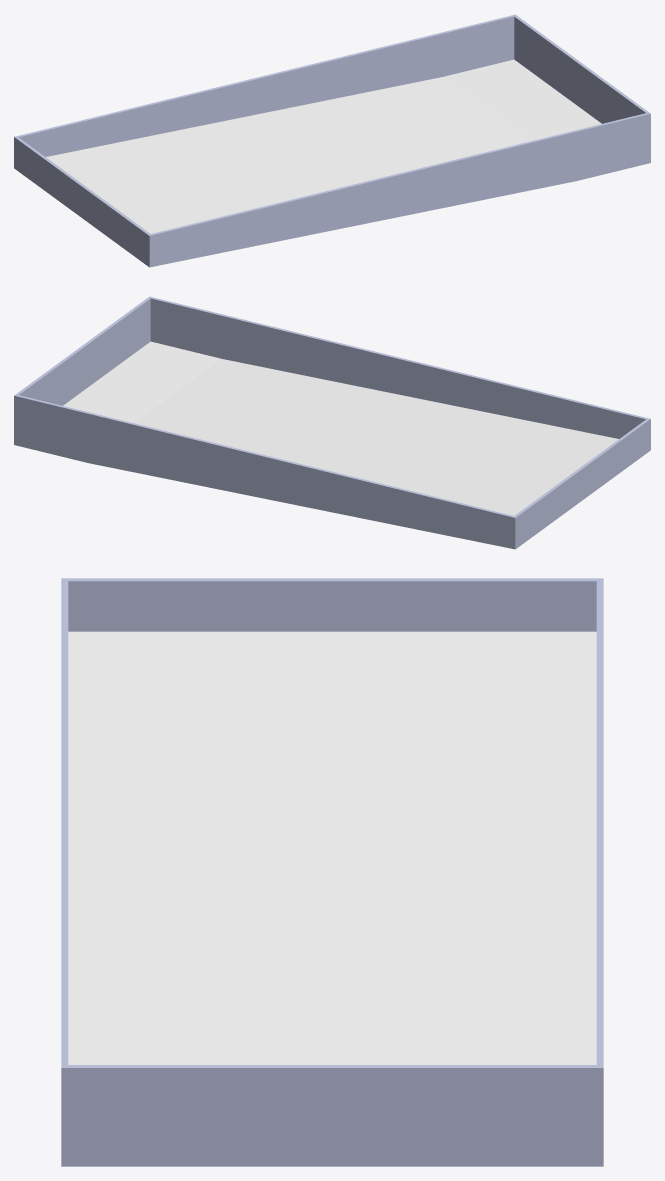
3 renders of one model, top to bottom at view 1: azimuth 30°, elevation 25°; view 2: azimuth 150°, elevation 25°; view 3: azimuth 270°, elevation 25°, orthographic. The views are drawn at different scales.
Parts seen in each view (by area): view 1: 3DGeom-14, 3DGeom-15; view 2: 3DGeom-14, 3DGeom-15; view 3: 3DGeom-15, 3DGeom-14.
Part boxes in pixels (x1,y1,x2,y2): 3DGeom-14: [14, 14, 650, 267]; 3DGeom-15: [46, 59, 601, 233]; 3DGeom-14: [14, 296, 650, 549]; 3DGeom-15: [63, 341, 618, 515]; 3DGeom-15: [68, 631, 596, 1064]; 3DGeom-14: [61, 578, 603, 1166].
Bounding box in the file's own units: 0.05 × 0.0234 × 0.0047.
